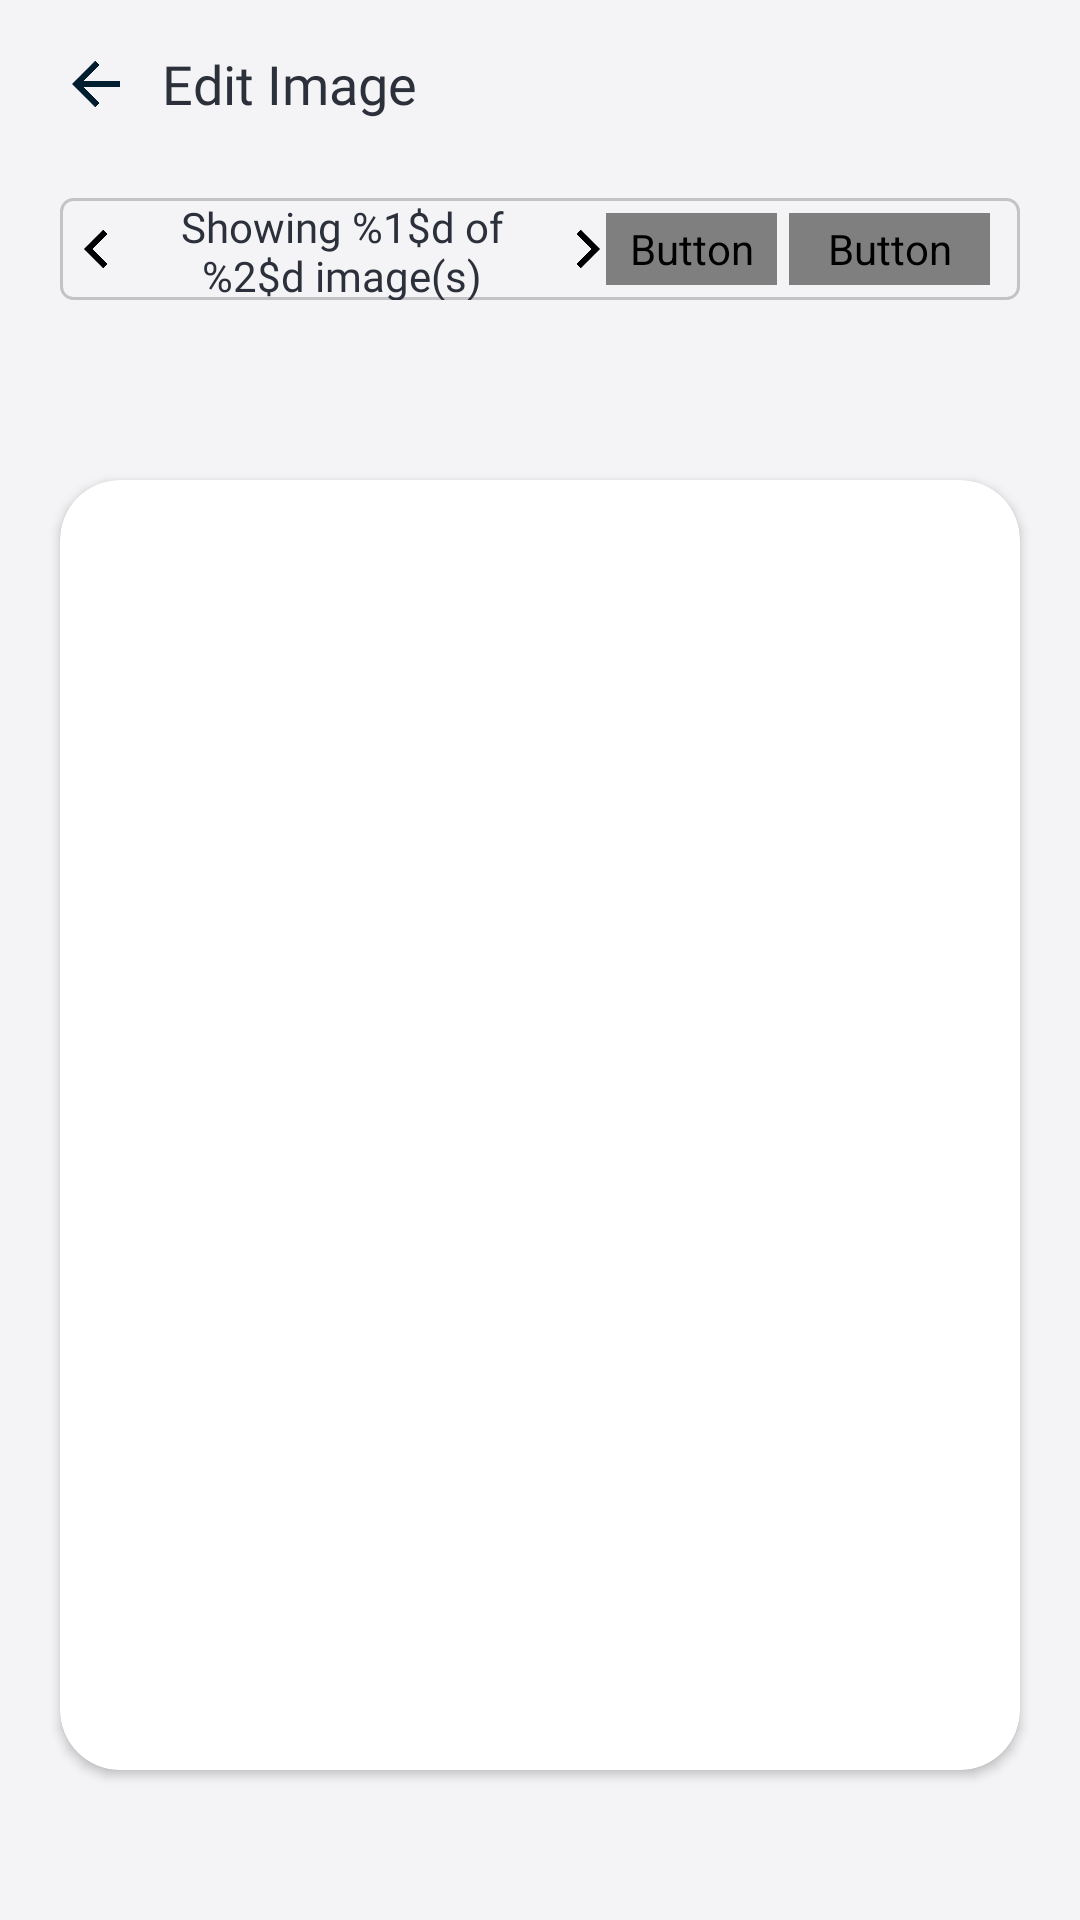

Point at icon controls on the screen. Image size 1080x1920, points as [x,y].
back arrow: [96,84]
Previous Image: [95,249]
